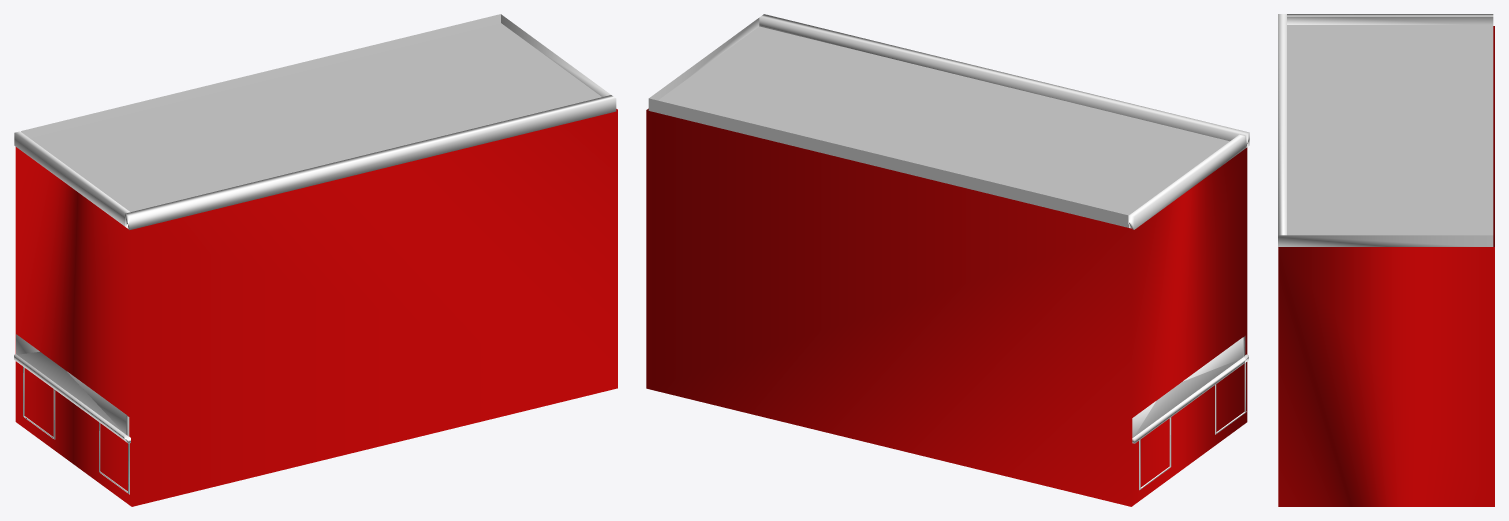
The model's file is geschaefte_06.fbx.
3 views of the same model, side by side, from view 1: azimuth 30°, elevation 25°; view 2: azimuth 150°, elevation 25°; view 3: azimuth 270°, elevation 25° (orthographic). The views are drawn at different scales.
Visible parts, largest first — view 1: colmesh_geschaeft_06, geschaeft_06; view 2: colmesh_geschaeft_06, geschaeft_06; view 3: colmesh_geschaeft_06, geschaeft_06.
Boxes of the visible parts, <box> form: colmesh_geschaeft_06: <box>15,109,617,506</box>; geschaeft_06: <box>14,14,616,494</box>; colmesh_geschaeft_06: <box>646,108,1247,506</box>; geschaeft_06: <box>648,14,1249,490</box>; colmesh_geschaeft_06: <box>1278,26,1494,506</box>; geschaeft_06: <box>1278,14,1493,246</box>.
Size of the model in its own units: 1791 by 1042 by 739.
